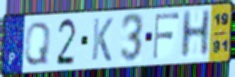2: (56, 17, 78, 67)
3: (119, 12, 145, 65)
F: (152, 11, 181, 61)
H: (179, 8, 213, 61)
K: (90, 17, 114, 63)
Q: (22, 21, 52, 67)
